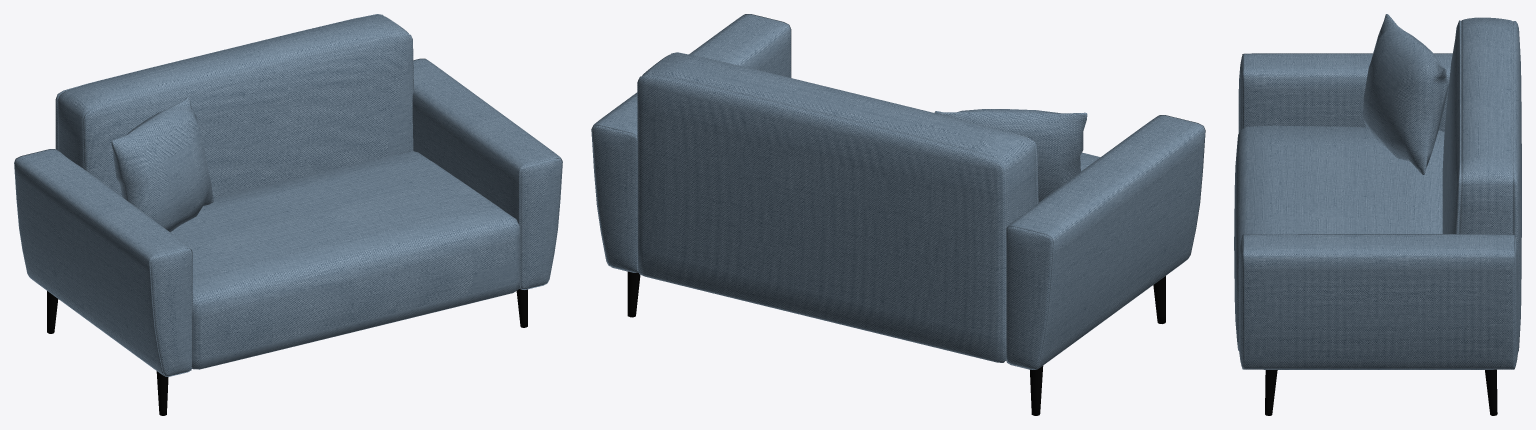
File: design1.obj
3 views of the same model, side by side, from view 1: azimuth 30°, elevation 25°; view 2: azimuth 150°, elevation 25°; view 3: azimuth 270°, elevation 25° (orthographic). The views are drawn at different scales.
Parts seen in each view (by area): view 1: Box001, Box002, Box004, Plane002, Box003; view 2: Box004, Box002, Plane002, Box003; view 3: Box002, Box001, Box004, Plane002, Box003.
Boxes of the visible parts, <box> form: Box001: <box>170,151,519,369</box>; Box002: <box>14,58,562,376</box>; Box004: <box>55,14,413,198</box>; Plane002: <box>111,97,213,232</box>; Box003: <box>47,289,527,415</box>; Box004: <box>637,52,1038,362</box>; Box002: <box>591,14,1205,369</box>; Plane002: <box>934,109,1087,202</box>; Box003: <box>627,271,1165,415</box>; Box002: <box>1238,53,1518,369</box>; Box001: <box>1234,125,1444,350</box>; Box004: <box>1442,17,1521,352</box>; Plane002: <box>1363,14,1448,174</box>; Box003: <box>1265,369,1497,415</box>.
Bounding box in the file's own units: 1342 × 733 × 806.
Materials: 2 (1 with a texture image).
